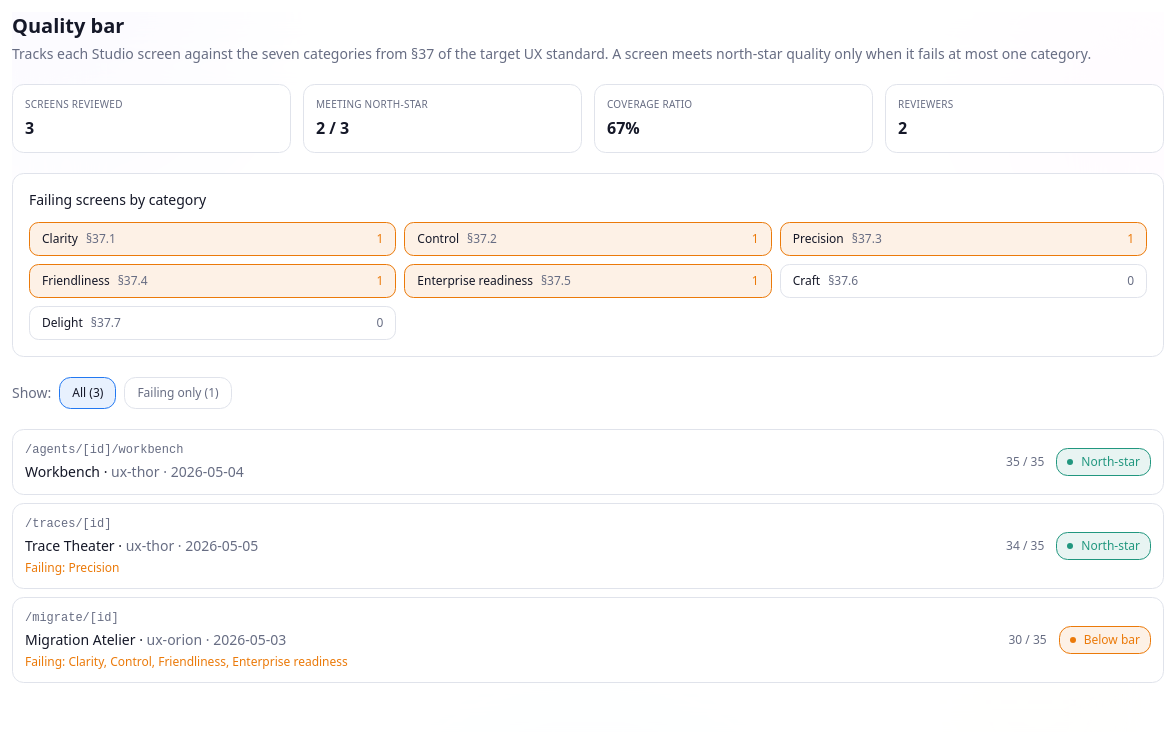
Test: QualityDashboard › filters to failing-only screens
The width and height of the screenshot is (1176, 732).
Click the button with test id "quality-filter-failing": click(178, 393) [124,377,232,409]
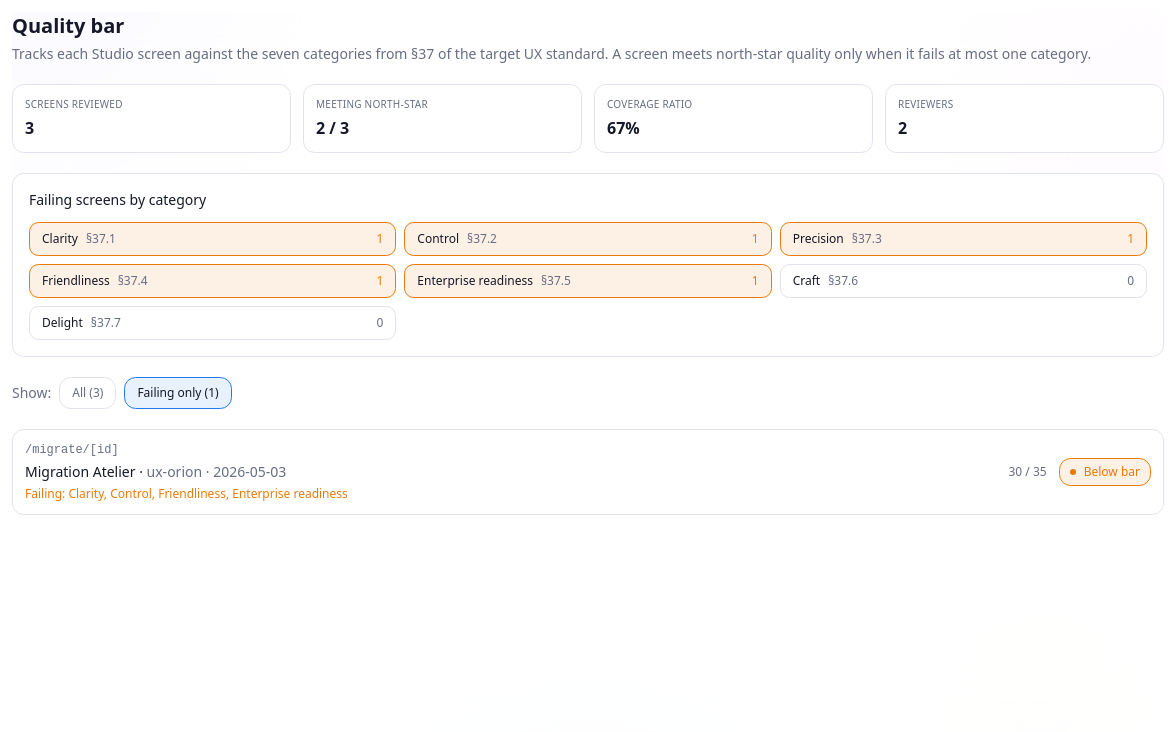
expect the button with test id "quality-row-/migrate/[id]" is shown: met, box [12,429,1164,515]
expect the button with test id "quality-row-/agents/[id]/workbench" is gone: met
